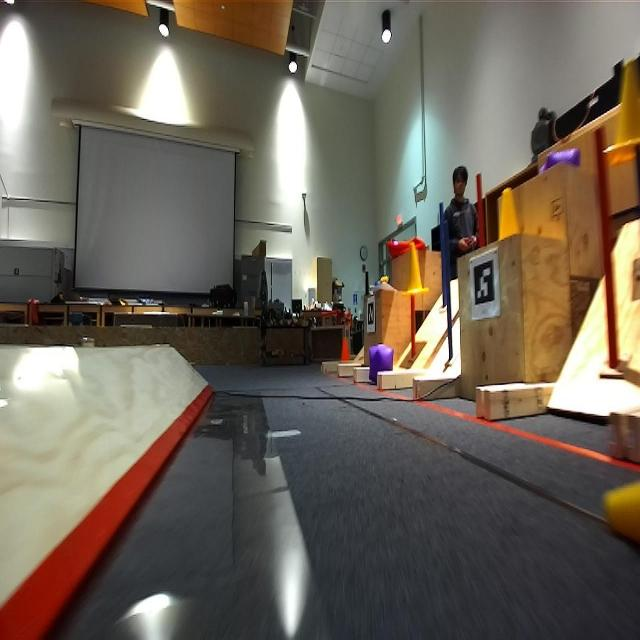frc_cone: (605, 62, 640, 165), (603, 461, 640, 556), (494, 182, 522, 244), (401, 238, 428, 298)
frc_cube: (368, 341, 394, 377), (541, 145, 581, 166)
